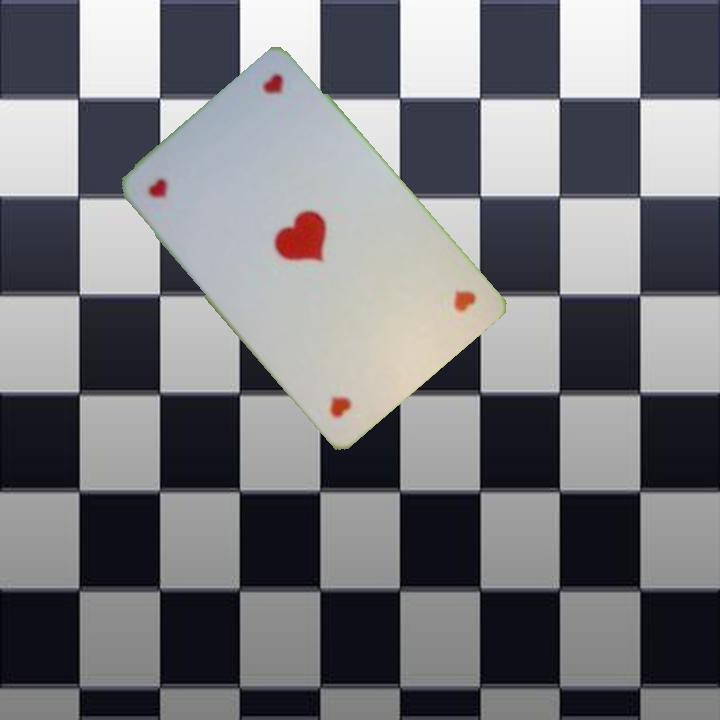h_a.png: (132, 124, 262, 252), (358, 241, 487, 369)
